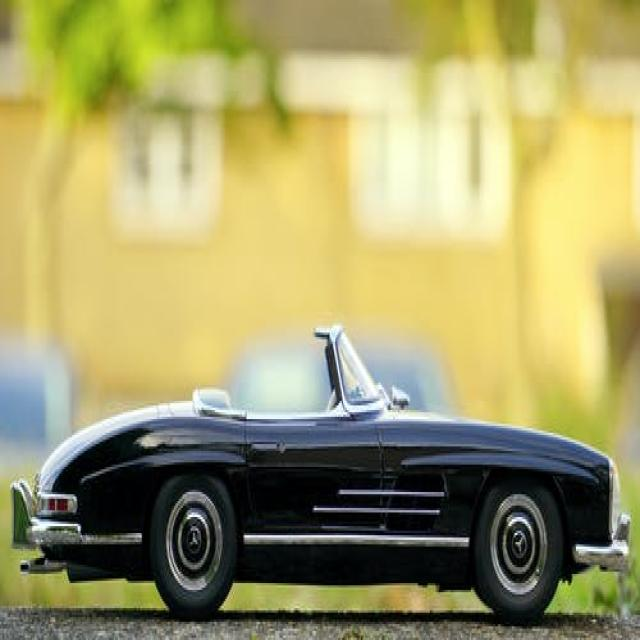Car: (10, 321, 631, 624)
